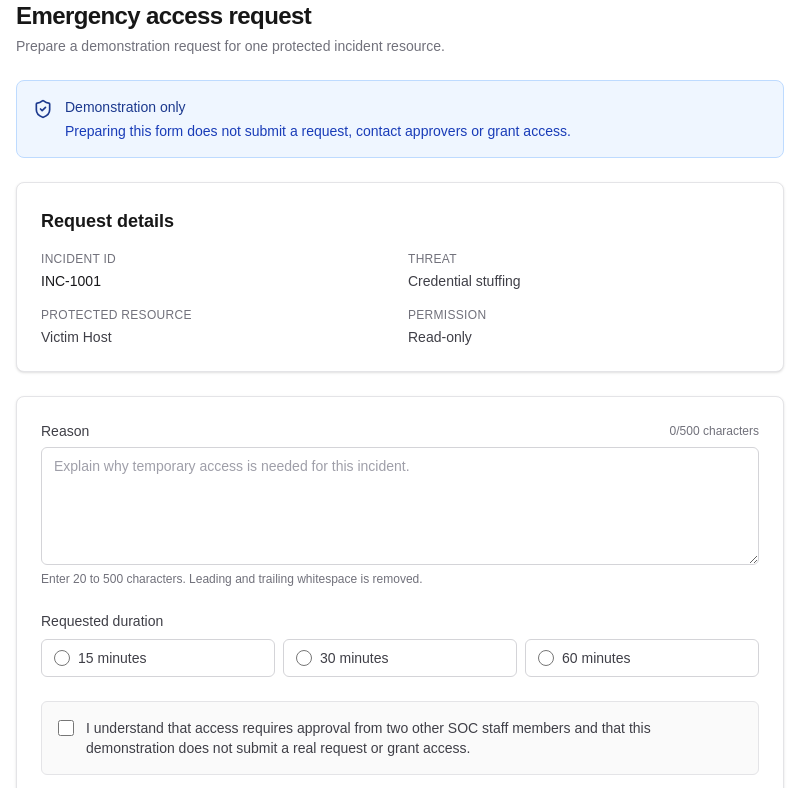
it: AccessRequestView › supports keyboard focus and associates validation errors with their controls
Expected: the heading "Emergency access request" is shown, [16,2,311,29]
Press Tab
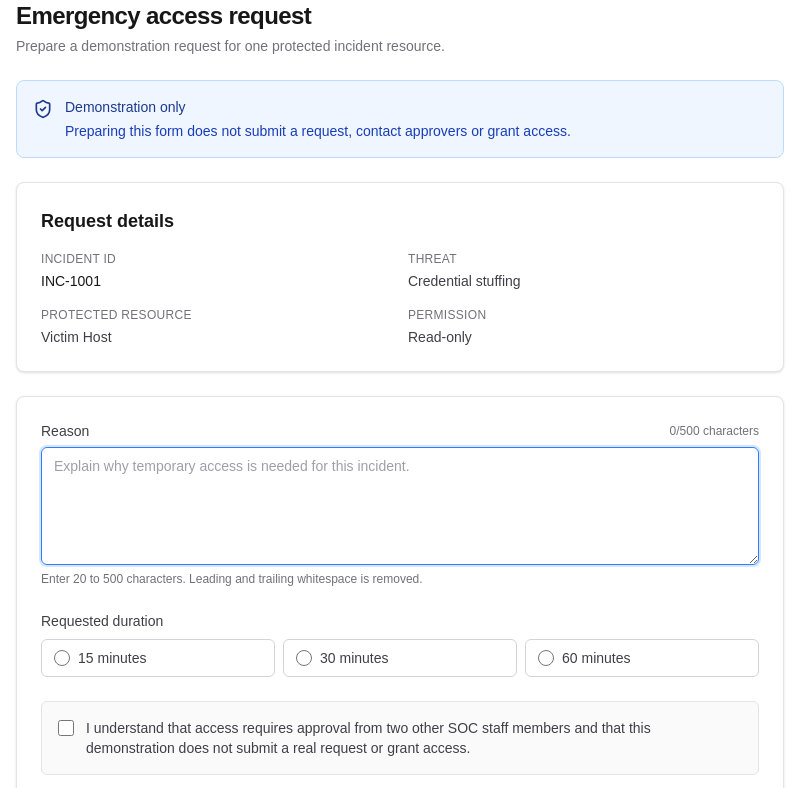
Press Tab
(page scrolled)
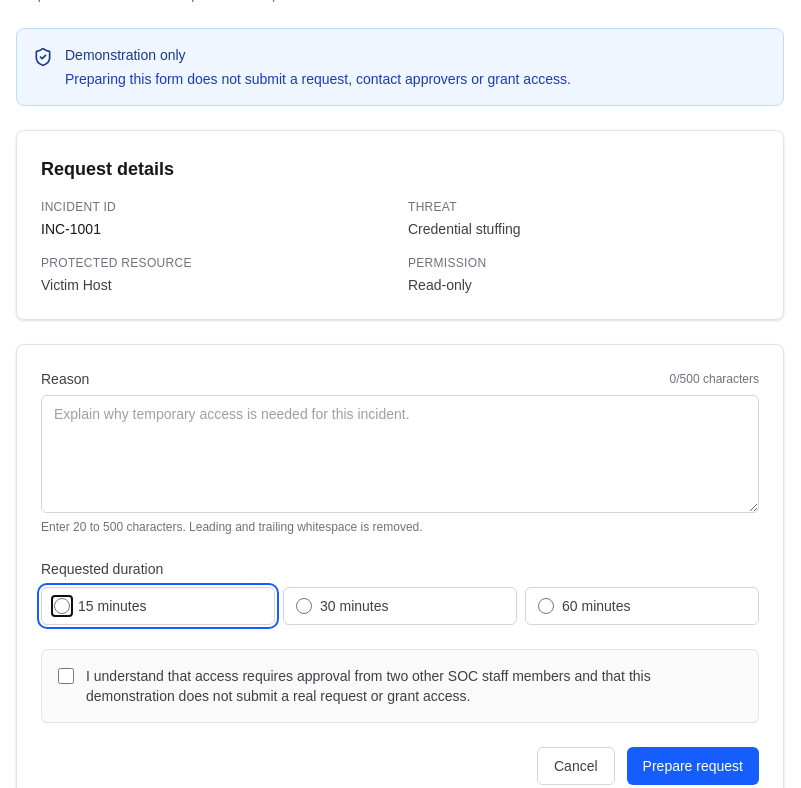
Click the button "Prepare request": [693, 766] box [627,747,759,785]
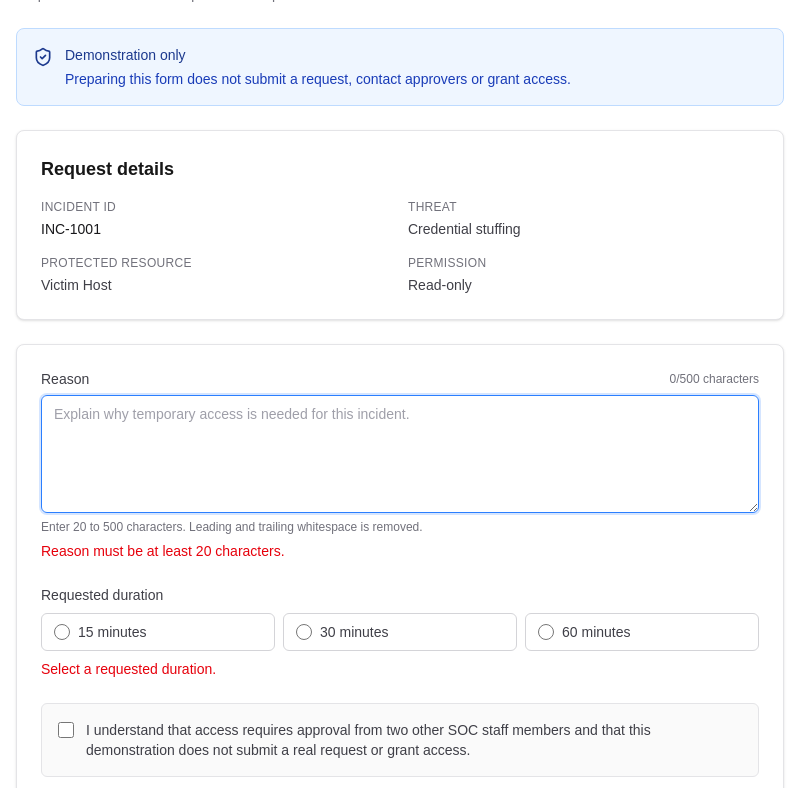
Now the text "Reason must be at least 20 characters." is shown, box [41,543,285,559]
